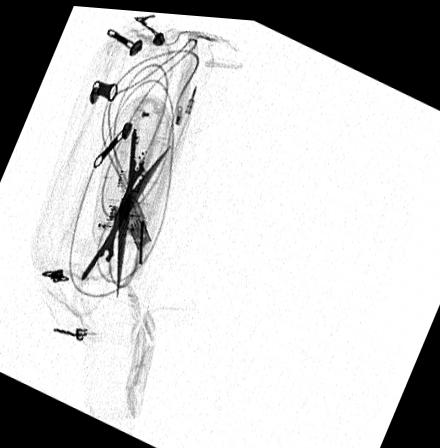Scissors: (67, 92, 174, 321)
